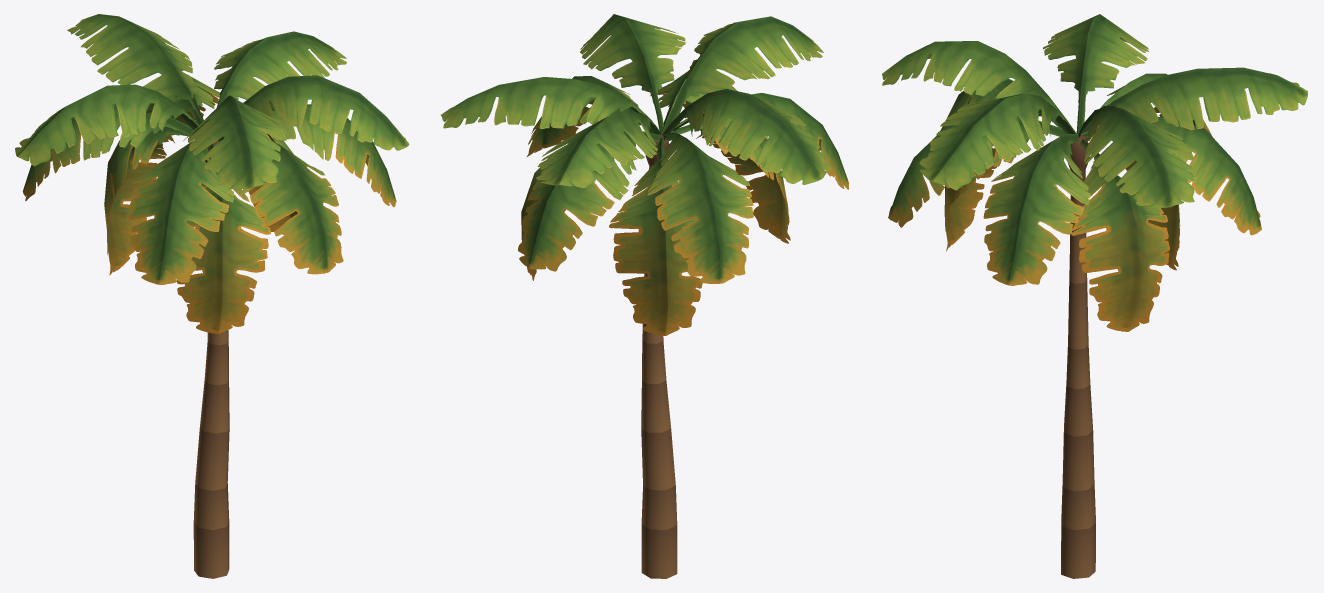
The model's file is Fbx_PalmTree_2.fbx.
3 views of the same model, side by side, from view 1: azimuth 30°, elevation 25°; view 2: azimuth 150°, elevation 25°; view 3: azimuth 270°, elevation 25° (orthographic).
Parts seen in each view (by area): view 1: Leaves_2, Tree_2; view 2: Leaves_2, Tree_2; view 3: Leaves_2, Tree_2.
Boxes of the visible parts, x1=… form: Leaves_2: x1=15, y1=14, x2=409, y2=333; Tree_2: x1=193, y1=140, x2=229, y2=578; Leaves_2: x1=441, y1=14, x2=849, y2=335; Tree_2: x1=641, y1=135, x2=677, y2=578; Leaves_2: x1=882, y1=14, x2=1307, y2=331; Tree_2: x1=1061, y1=135, x2=1095, y2=578.
Size of the model in its own units: 301 by 424 by 320.
